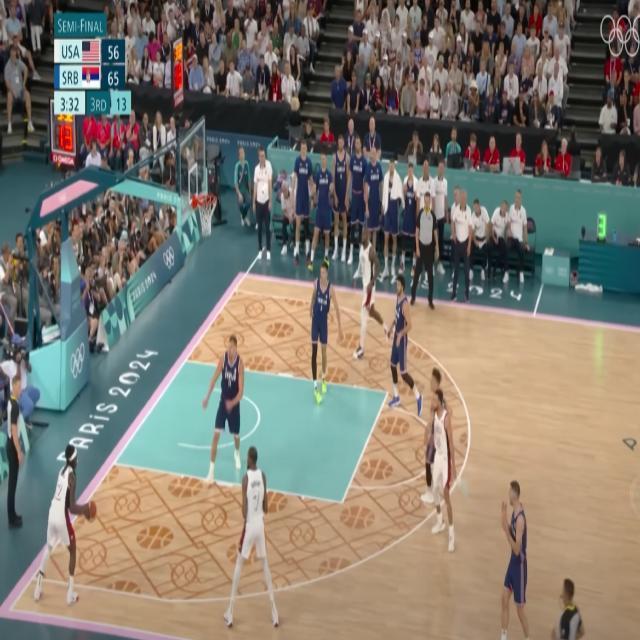basketball: (88, 501, 96, 518)
hoop: (195, 194, 216, 236)
